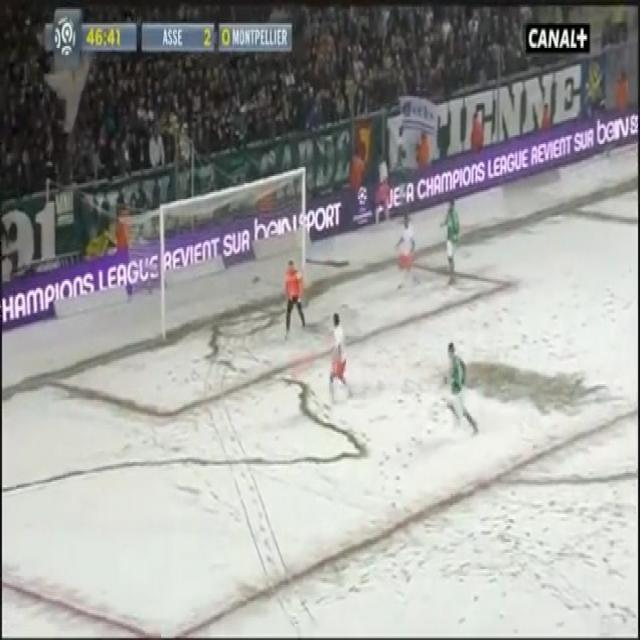goalkeeper: (277, 244, 306, 358)
player: (314, 300, 363, 433), (385, 206, 428, 323), (439, 318, 474, 427), (435, 185, 468, 295)
